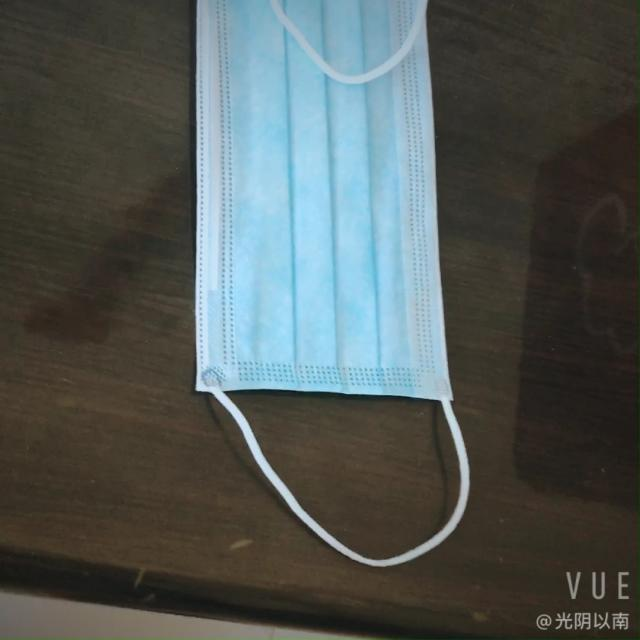non-organic waste: (175, 3, 452, 402)
